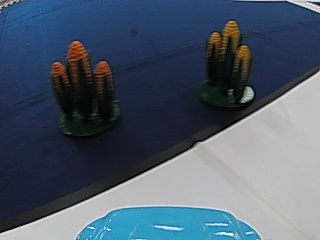corn: (51, 36, 120, 140), (202, 13, 254, 111)
